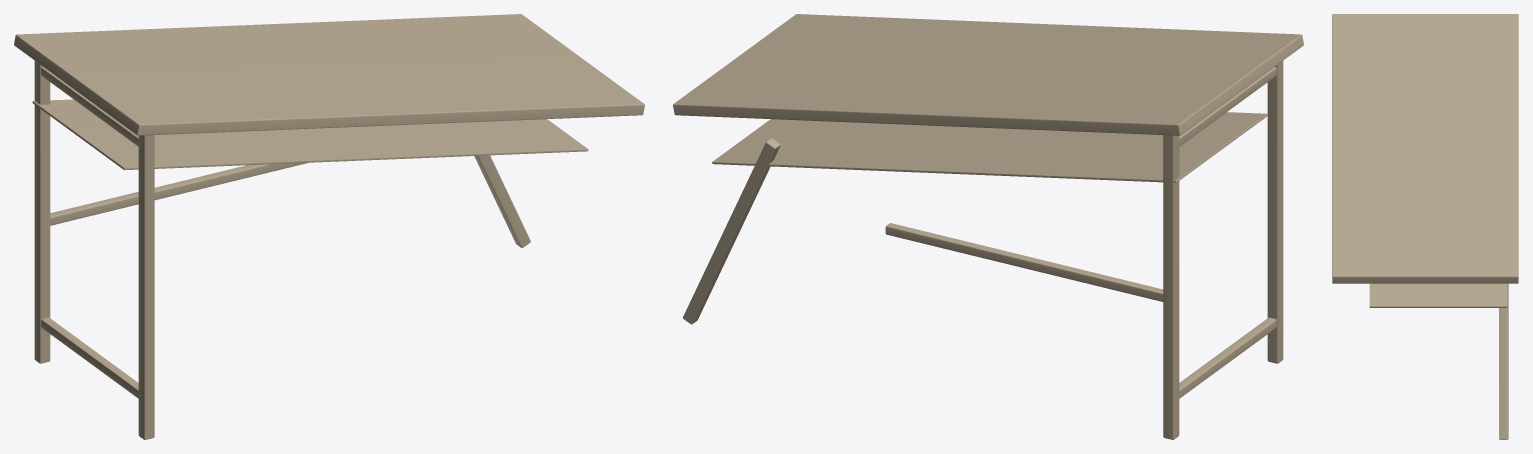
File: desk-broken.glb
The picture shows the model from 3 angles, left to right: view 1: azimuth 30°, elevation 25°; view 2: azimuth 150°, elevation 25°; view 3: azimuth 270°, elevation 25°; orthographic projection. The views are drawn at different scales.
Parts seen in each view (by area): view 1: desk-broken; view 2: desk-broken; view 3: desk-broken.
Boxes of the visible parts, x1,y1,x2,y2 form: desk-broken: [14, 14, 644, 439]; desk-broken: [673, 14, 1303, 439]; desk-broken: [1332, 14, 1518, 439].
Bounding box in the file's own units: 1.18 × 0.7234 × 0.5.
